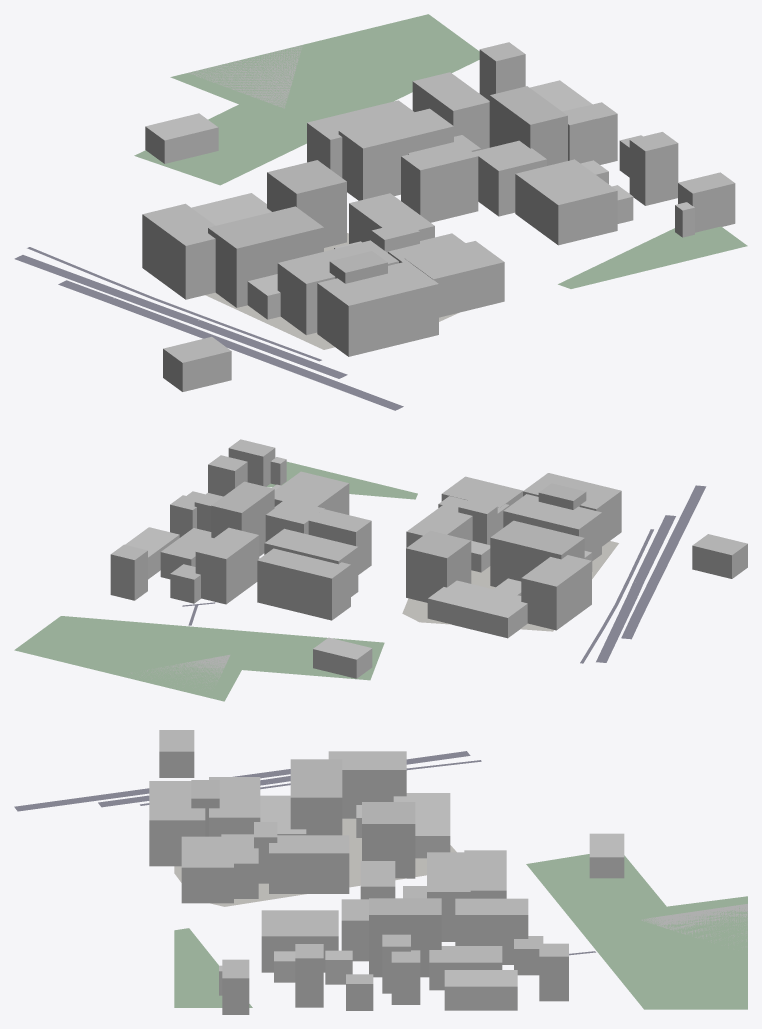
The model's file is 113_83_mid.glb.
3 views of the same model, one above another, from view 1: azimuth 30°, elevation 25°; view 2: azimuth 150°, elevation 25°; view 3: azimuth 270°, elevation 25° (orthographic). The views are drawn at different scales.
Size of the model in its own units: 531 by 61.05 by 640.
